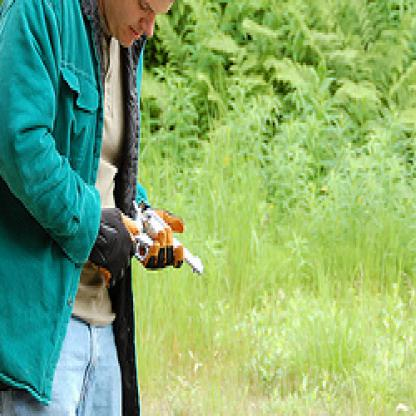gun: (125, 190, 211, 290)
